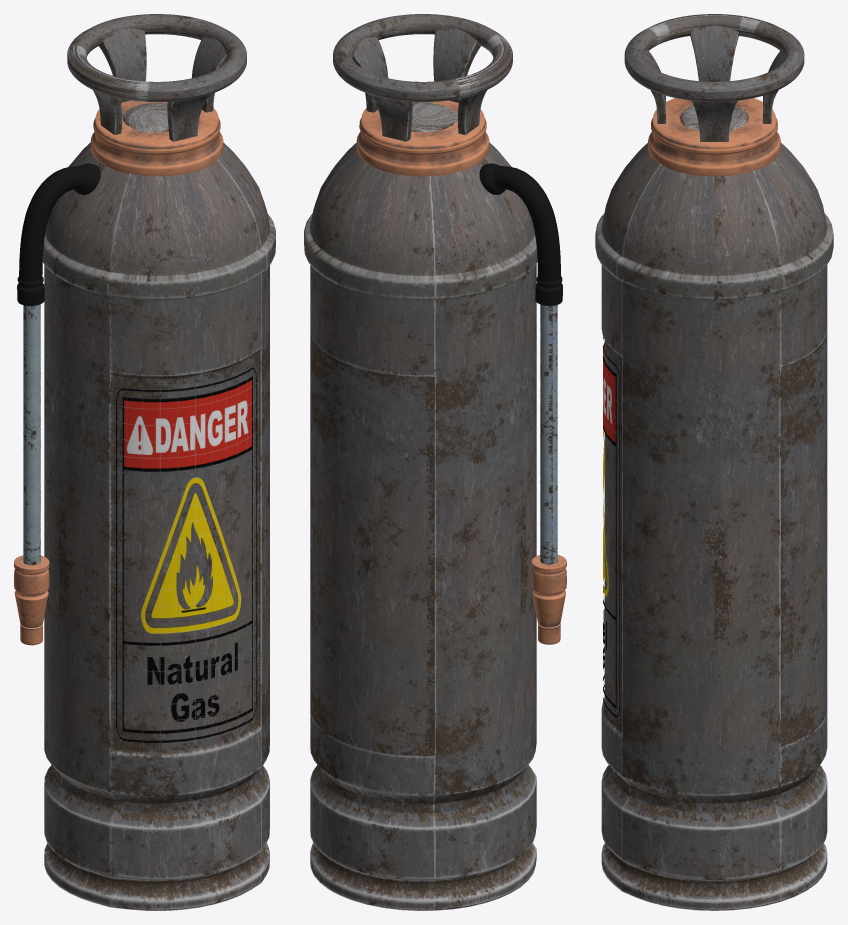
Rendered from gas_tank.glb.
3 views of the same model, side by side, from view 1: azimuth 30°, elevation 25°; view 2: azimuth 150°, elevation 25°; view 3: azimuth 270°, elevation 25° (orthographic).
Visible parts, largest first — view 1: polySurface7, pPlane2, polySurface8, polySurface13, pCylinder10, polySurface14, polySurface16; view 2: polySurface7, polySurface8, polySurface13, pCylinder10, polySurface14, polySurface16; view 3: polySurface7, polySurface8, polySurface13, pPlane2.
Boxes of the visible parts, x1,y1,x2,y2 form: polySurface7: (42, 102, 275, 910); pPlane2: (113, 363, 257, 754); polySurface8: (67, 14, 246, 141); polySurface13: (90, 100, 223, 176); pCylinder10: (23, 304, 40, 565); polySurface14: (17, 163, 100, 305); polySurface16: (14, 555, 49, 645); polySurface7: (304, 102, 537, 910); polySurface8: (333, 14, 512, 141); polySurface13: (356, 100, 489, 176); pCylinder10: (540, 304, 557, 564); polySurface14: (479, 163, 562, 305); polySurface16: (531, 555, 566, 644); polySurface7: (595, 105, 833, 910); polySurface8: (624, 14, 804, 141); polySurface13: (648, 98, 780, 176); pPlane2: (603, 337, 621, 732).
Size of the model in its own units: 30.02 by 95.74 by 25.35.
7 materials, 7 textured.
